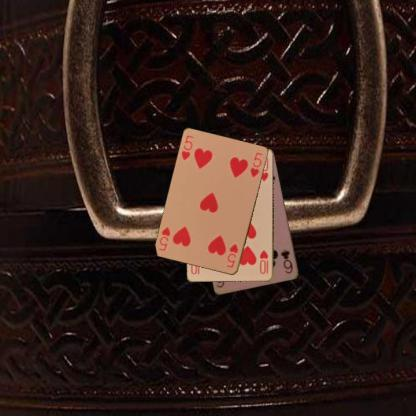10h: (257, 248, 270, 275)
5h: (178, 133, 194, 162), (224, 242, 240, 269)
6c: (279, 247, 294, 275)
